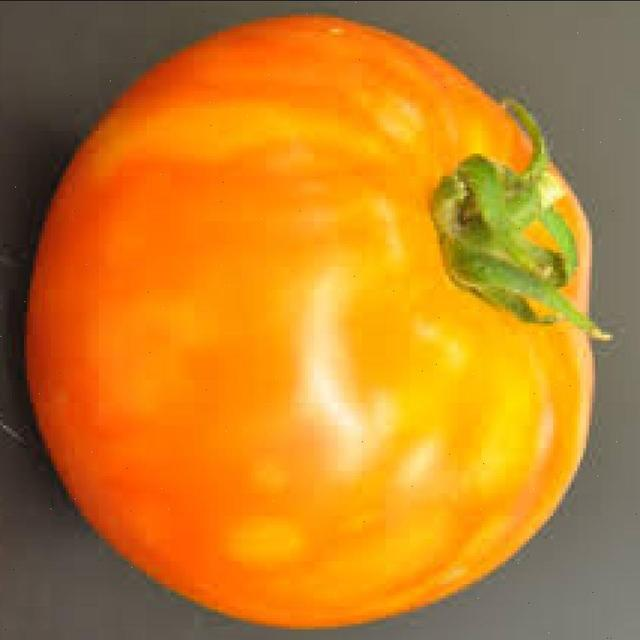Spotted wilt Virus Fruit: (21, 40, 39, 225)
